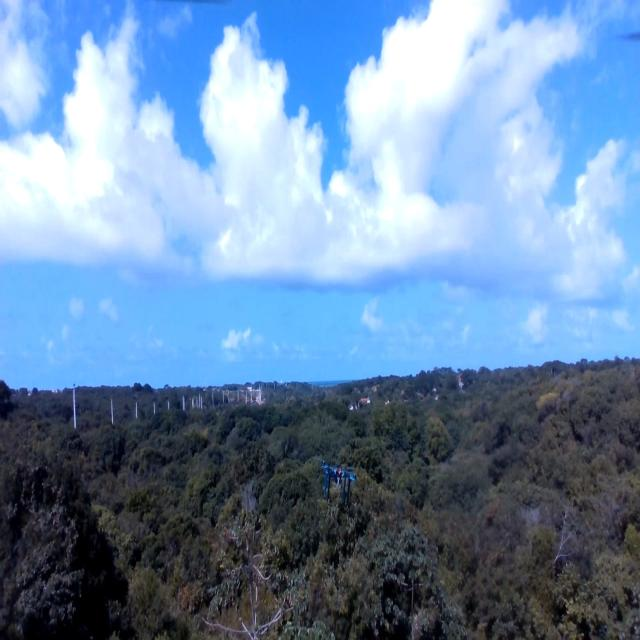-uav-: (312, 447, 360, 511)
